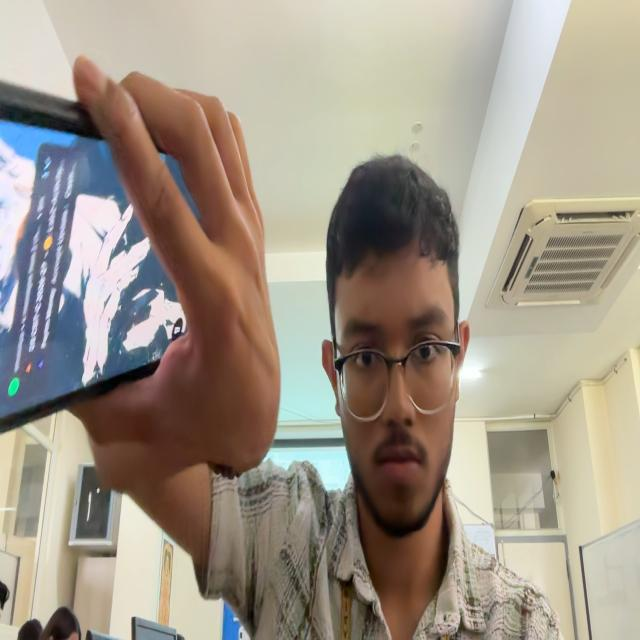Useful: (0, 82, 188, 433)
